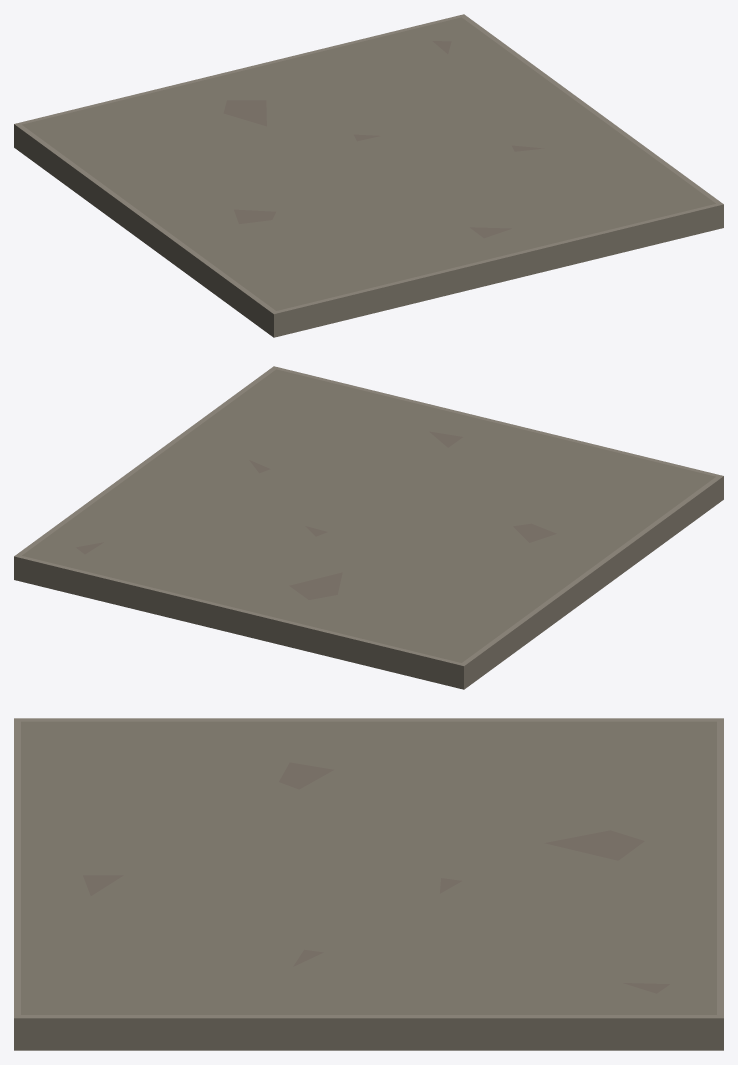
Rendered from ConcrateSlabs_A_1_2.fbx.
The picture shows the model from 3 angles, top to bottom: view 1: azimuth 30°, elevation 25°; view 2: azimuth 150°, elevation 25°; view 3: azimuth 270°, elevation 25°; orthographic projection. The views are drawn at different scales.
Parts seen in each view (by area): view 1: ConcrateSlabs_A_1_2; view 2: ConcrateSlabs_A_1_2; view 3: ConcrateSlabs_A_1_2.
Part boxes in pixels (x1,y1,x2,y2): ConcrateSlabs_A_1_2: (14, 14, 723, 337); ConcrateSlabs_A_1_2: (14, 366, 723, 689); ConcrateSlabs_A_1_2: (14, 718, 723, 1050).
Size of the model in its own units: 800 by 40 by 800.
